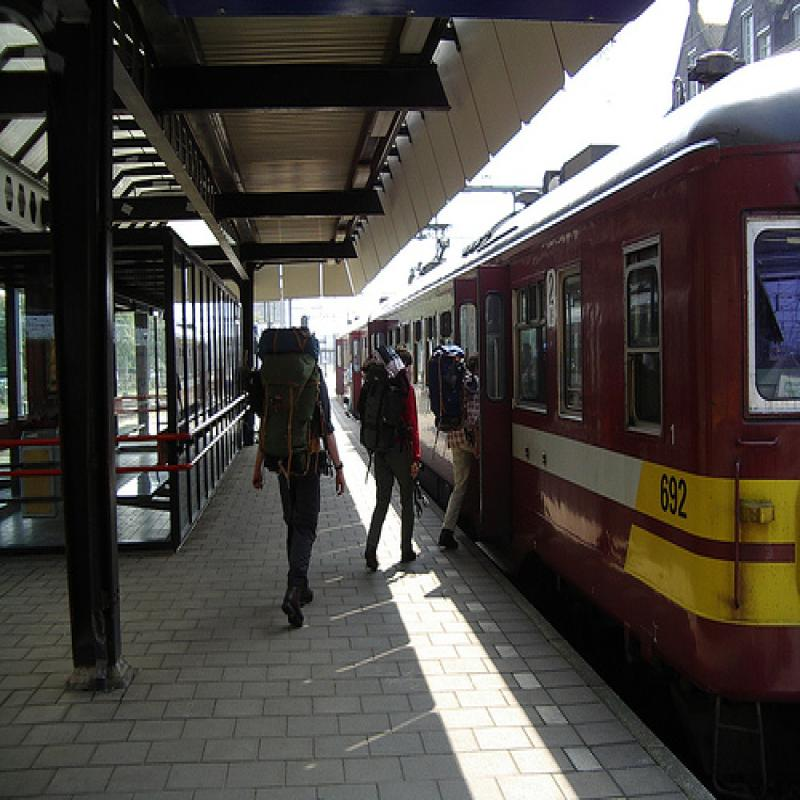train: (333, 48, 800, 699)
